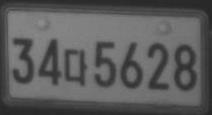2: (147, 42, 169, 89)
3: (12, 37, 34, 83)
4: (38, 38, 62, 85)
5: (95, 41, 116, 87)
6: (120, 41, 143, 89)
8: (173, 43, 197, 90)
다: (65, 48, 88, 86)
